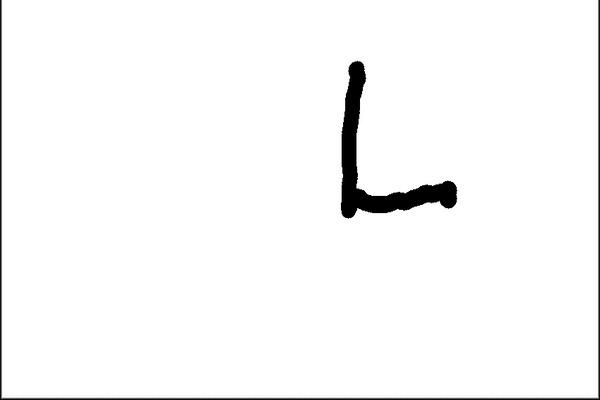L: (332, 52, 461, 224)
